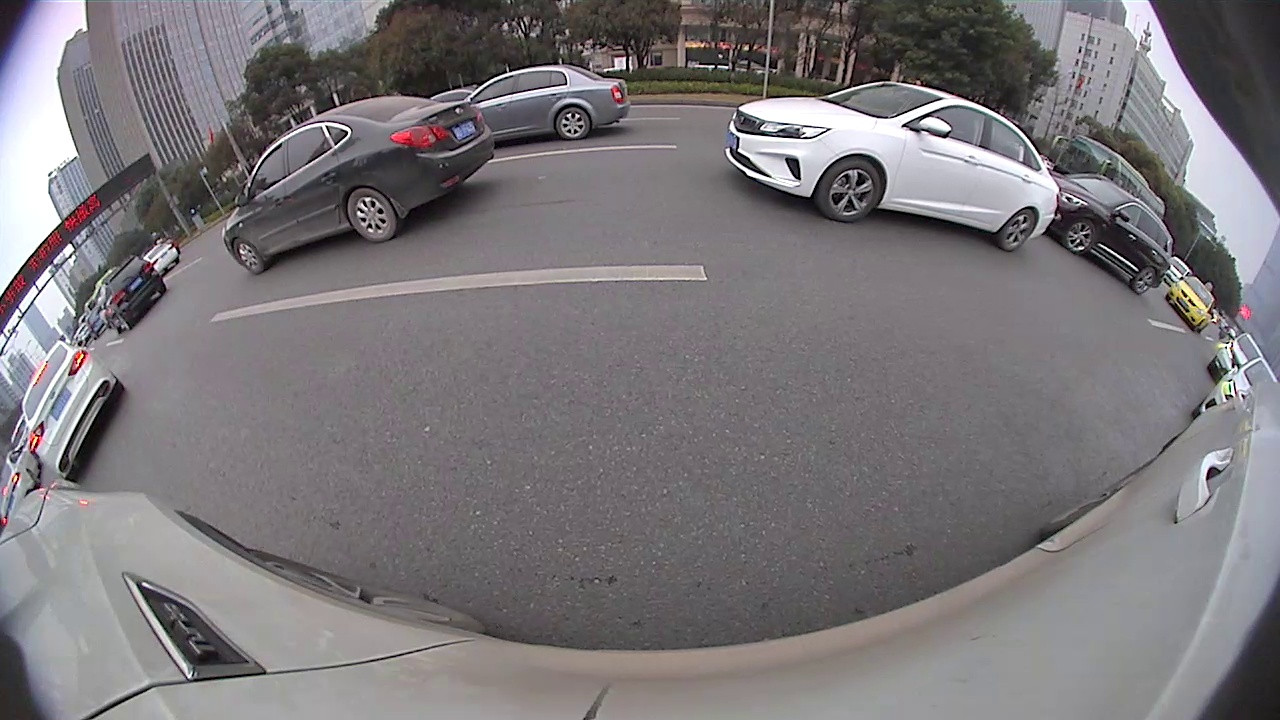car: (724, 79, 1060, 256), (217, 93, 496, 276), (1051, 165, 1177, 297), (20, 339, 124, 487), (476, 61, 632, 147), (100, 251, 170, 331)
front: (817, 157, 885, 219), (233, 238, 265, 277), (1060, 220, 1096, 251)
rear: (346, 186, 399, 244), (996, 208, 1036, 252), (556, 104, 590, 141), (1131, 266, 1156, 295)
